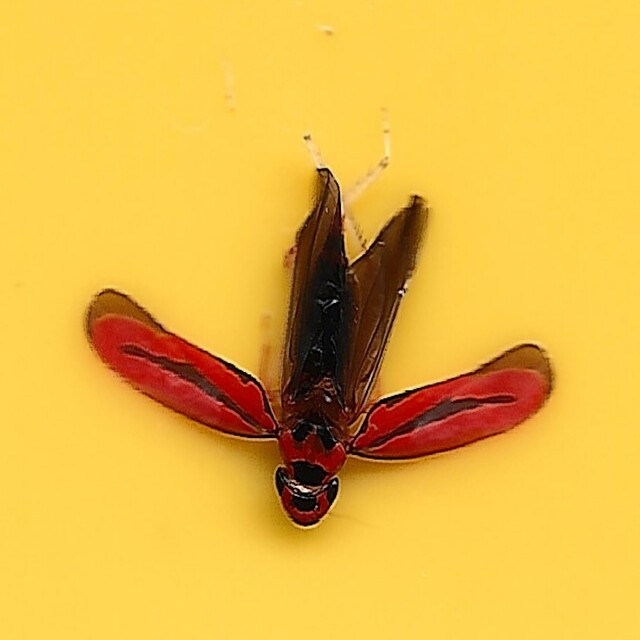Hemiptera: (84, 113, 556, 527)
